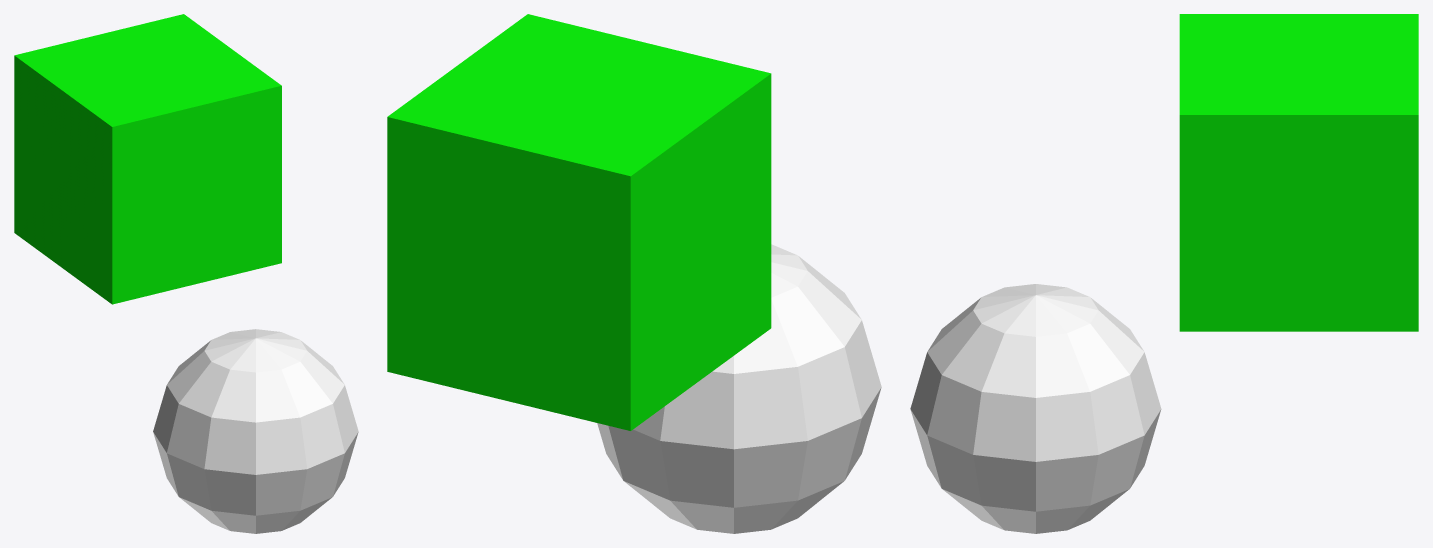
Rendered from BoxAndSphere.obj.
The picture shows the model from 3 angles, left to right: view 1: azimuth 30°, elevation 25°; view 2: azimuth 150°, elevation 25°; view 3: azimuth 270°, elevation 25°; orthographic projection. The views are drawn at different scales.
Visible parts, largest first — view 1: Plane.001; view 2: Plane.001; view 3: Plane.001.
Part boxes in pixels (x1=…): Plane.001: x1=14, y1=14, x2=358, y2=533; Plane.001: x1=387, y1=14, x2=881, y2=533; Plane.001: x1=910, y1=14, x2=1418, y2=533.
Bounding box in the file's own units: 0.84 × 1.69 × 1.7.
